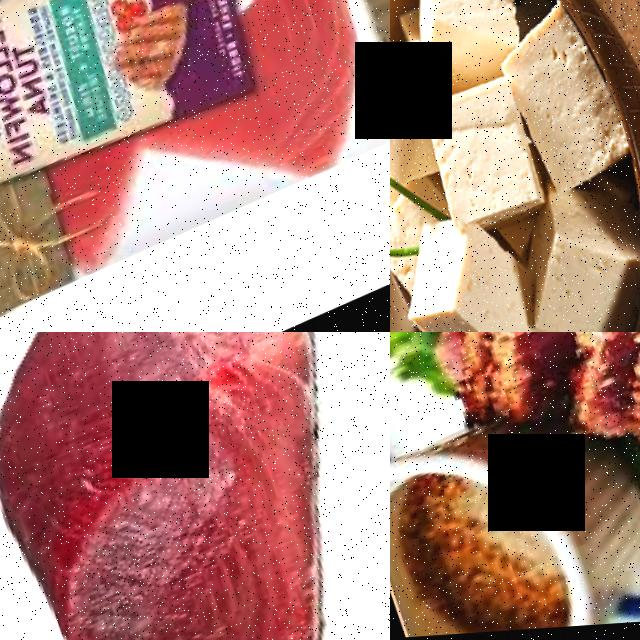tofu: (486, 0, 640, 210), (412, 70, 561, 243), (507, 186, 640, 332), (392, 220, 565, 332), (397, 0, 530, 79), (390, 31, 443, 129)
tuna: (0, 332, 390, 640), (222, 0, 390, 190)
